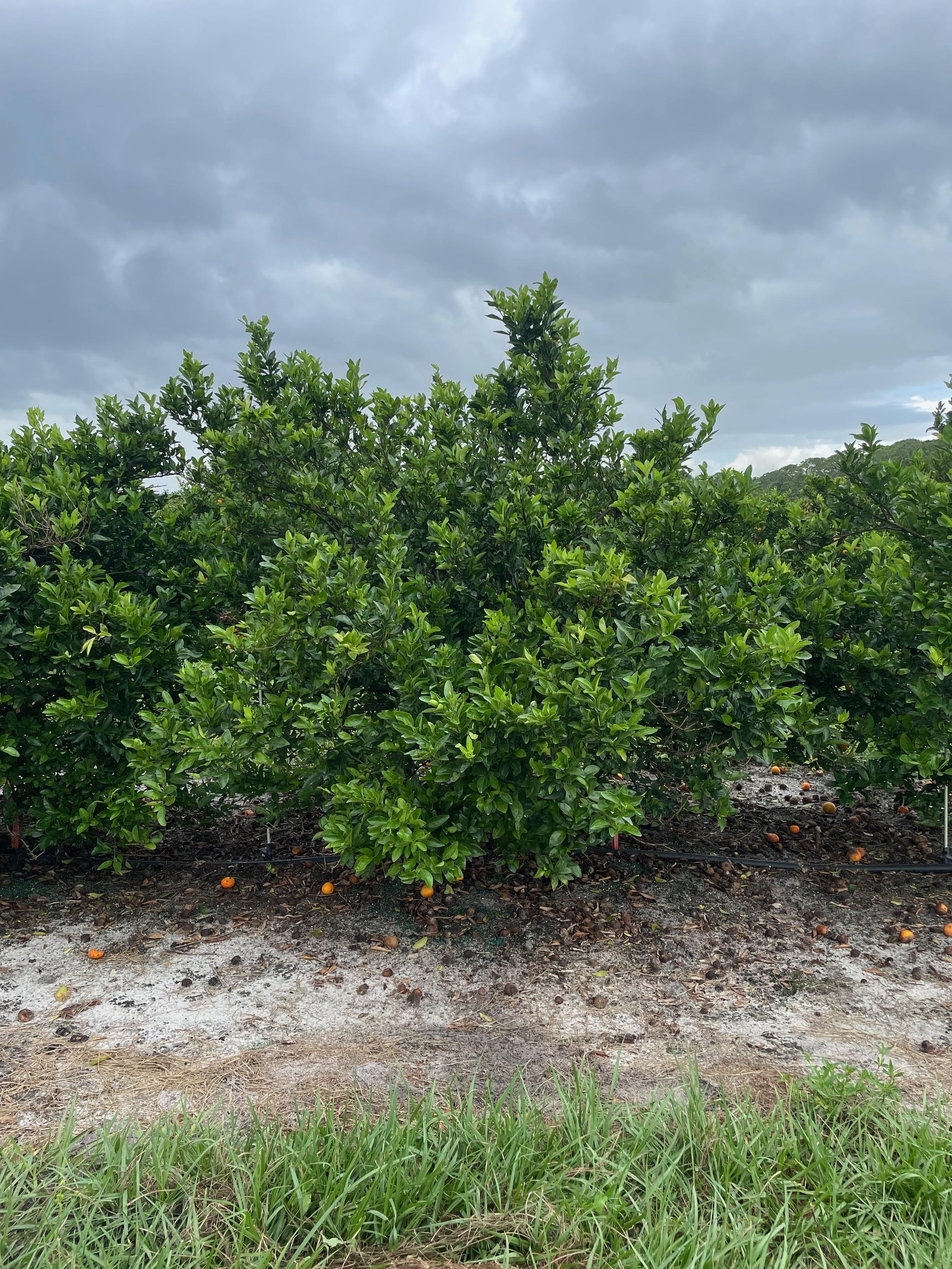fruit_on_ground: (835, 739, 850, 753), (844, 679, 857, 693)
fruit_on_tree: (844, 846, 865, 863), (17, 1005, 35, 1023), (381, 933, 401, 949), (418, 882, 436, 899), (318, 879, 335, 896), (934, 899, 950, 917), (897, 926, 915, 942), (87, 946, 105, 961), (502, 981, 519, 996), (821, 799, 838, 814), (219, 873, 236, 888), (813, 922, 829, 937), (764, 830, 779, 844), (940, 921, 952, 938), (289, 843, 304, 856), (896, 802, 911, 815), (847, 814, 860, 827), (787, 794, 800, 806), (788, 822, 801, 834), (243, 806, 256, 817), (799, 780, 812, 791), (770, 764, 782, 775)
